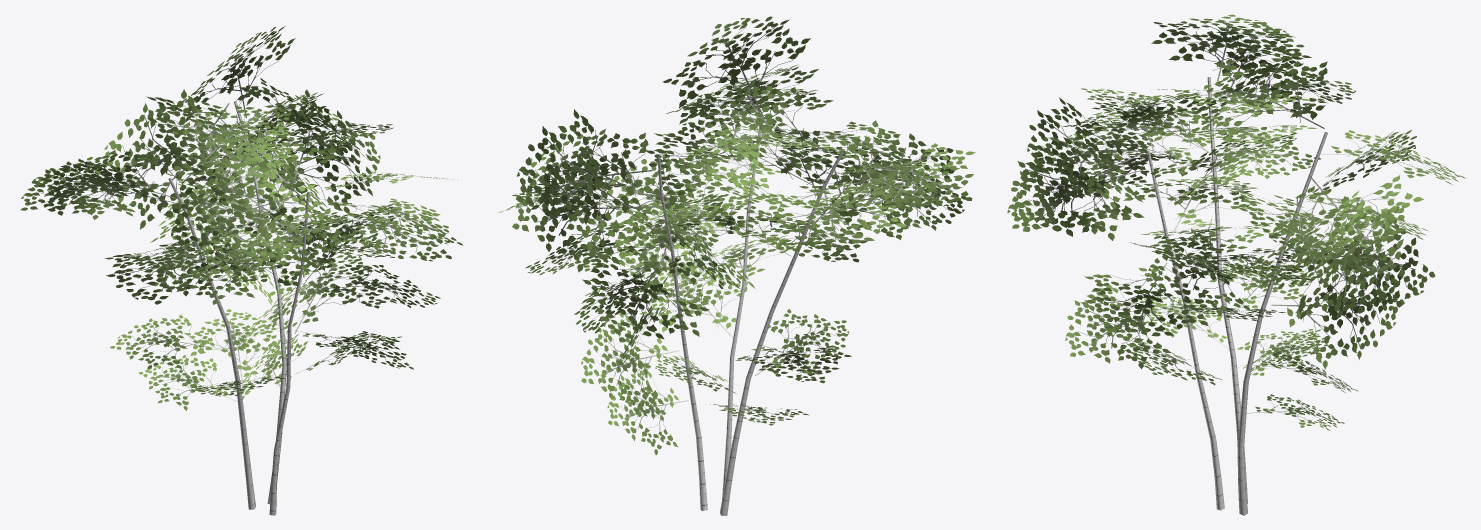
File: tree_Shrub_Birch_LOD1.fbx
3 views of the same model, side by side, from view 1: azimuth 30°, elevation 25°; view 2: azimuth 150°, elevation 25°; view 3: azimuth 270°, elevation 25° (orthographic). The views are drawn at different scales.
Visible parts, largest first — view 1: Shrub_Birch_LOD1; view 2: Shrub_Birch_LOD1; view 3: Shrub_Birch_LOD1.
Part boxes in pixels (x1=…): Shrub_Birch_LOD1: x1=20, y1=26, x2=462, y2=515; Shrub_Birch_LOD1: x1=498, y1=16, x2=975, y2=515; Shrub_Birch_LOD1: x1=1007, y1=14, x2=1465, y2=515.
Bounding box in the file's own units: 634 × 630 × 600.
